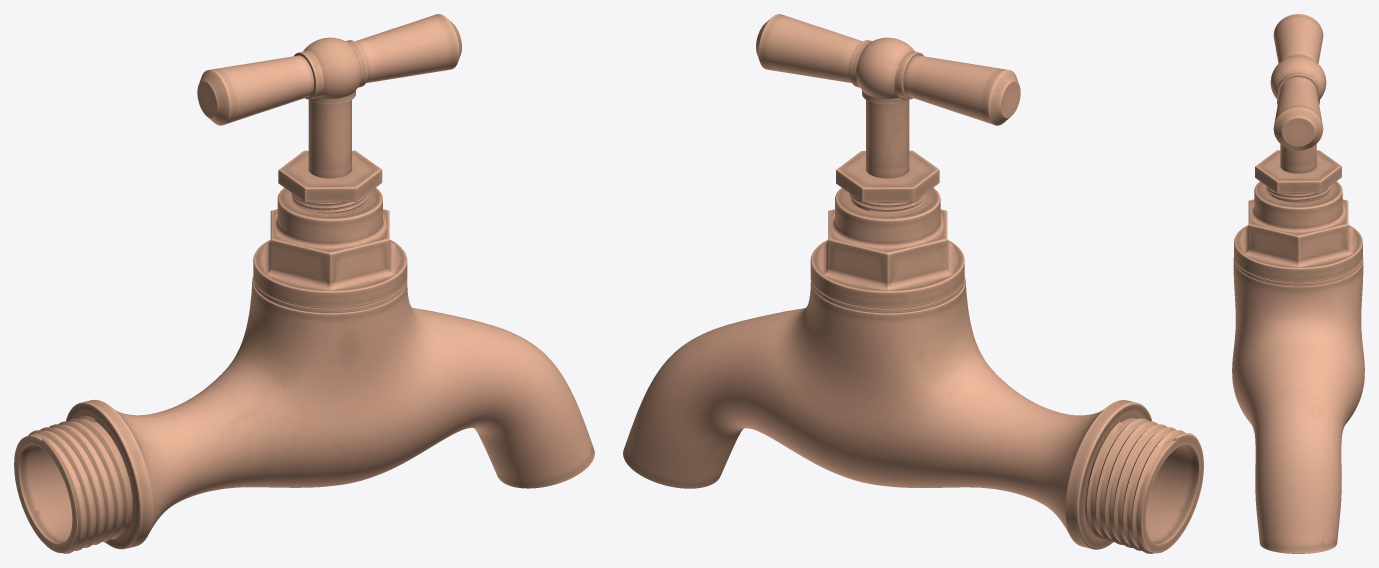
File: tap_roubinet.glb
3 views of the same model, side by side, from view 1: azimuth 30°, elevation 25°; view 2: azimuth 150°, elevation 25°; view 3: azimuth 270°, elevation 25° (orthographic). The views are drawn at different scales.
Parts seen in each view (by area): view 1: Solid_154, Extruded_007, Extruded_008, Extruded_005, Extruded_010, Extruded_011; view 2: Solid_154, Extruded_007, Extruded_008, Extruded_005, Extruded_010, Extruded_011; view 3: Solid_154, Extruded_008, Extruded_007, Extruded_010, Extruded_011, Extruded_005.
Part boxes in pixels (x1,y1,x2,y2): Solid_154: (66,277,594,549); Extruded_007: (197,14,461,125); Extruded_008: (253,187,407,308); Extruded_005: (14,278,407,553); Extruded_010: (278,150,382,213); Extruded_011: (308,100,351,178); Solid_154: (623,277,1151,549); Extruded_007: (756,14,1020,125); Extruded_008: (810,187,964,308); Extruded_005: (810,278,1203,553); Extruded_010: (836,150,939,213); Extruded_011: (866,100,909,178); Solid_154: (1232,258,1364,553); Extruded_008: (1234,181,1362,282); Extruded_007: (1270,14,1326,150); Extruded_010: (1255,150,1341,202); Extruded_011: (1280,144,1316,173); Extruded_005: (1234,256,1362,286).
Bounding box in the file's own units: 361 × 304 × 90.49.
1 material, 1 textured.
